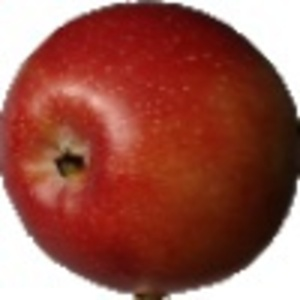maçã braeburn: (1, 1, 299, 296)
